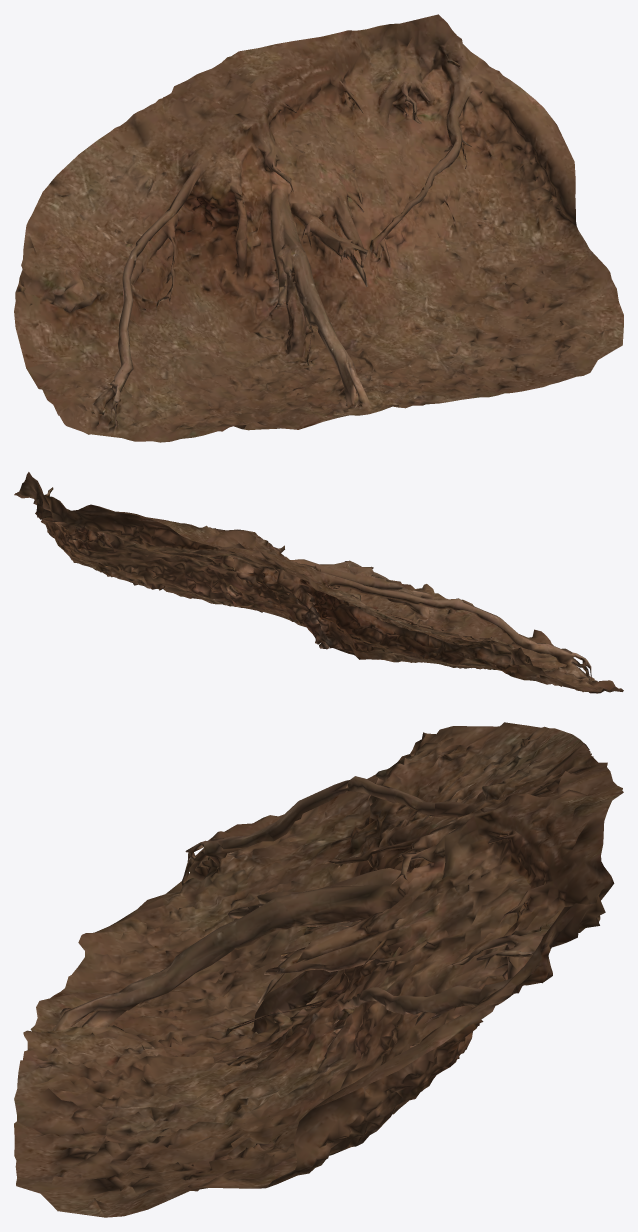
The model's file is root_cluster_01.glb.
3 views of the same model, one above another, from view 1: azimuth 30°, elevation 25°; view 2: azimuth 150°, elevation 25°; view 3: azimuth 270°, elevation 25° (orthographic). The views are drawn at different scales.
Visible parts, largest first — view 1: root_cluster_01; view 2: root_cluster_01; view 3: root_cluster_01.
Boxes of the visible parts, box(x1,y1,x2,y2) form: root_cluster_01: box(14, 14, 623, 442); root_cluster_01: box(14, 472, 623, 693); root_cluster_01: box(14, 722, 623, 1217).
Bounding box in the file's own units: 4.12 × 1.51 × 2.68.
Materials: 1 (1 with a texture image).
